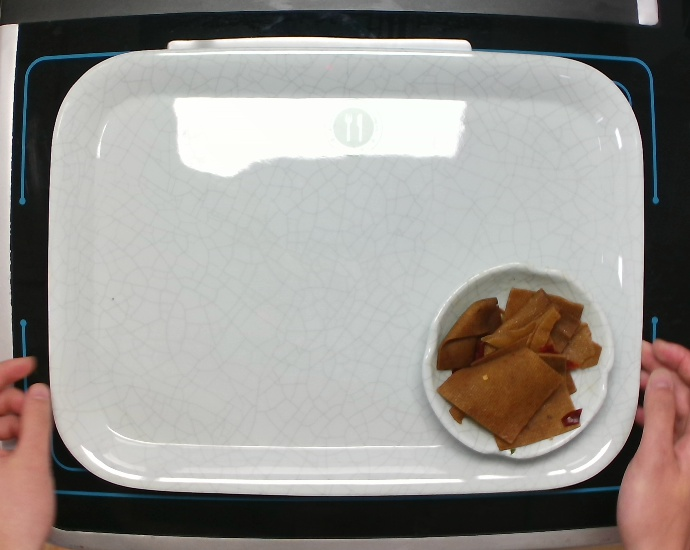JYsf-Ao_Yuan_Wan: (419, 260, 617, 461)
